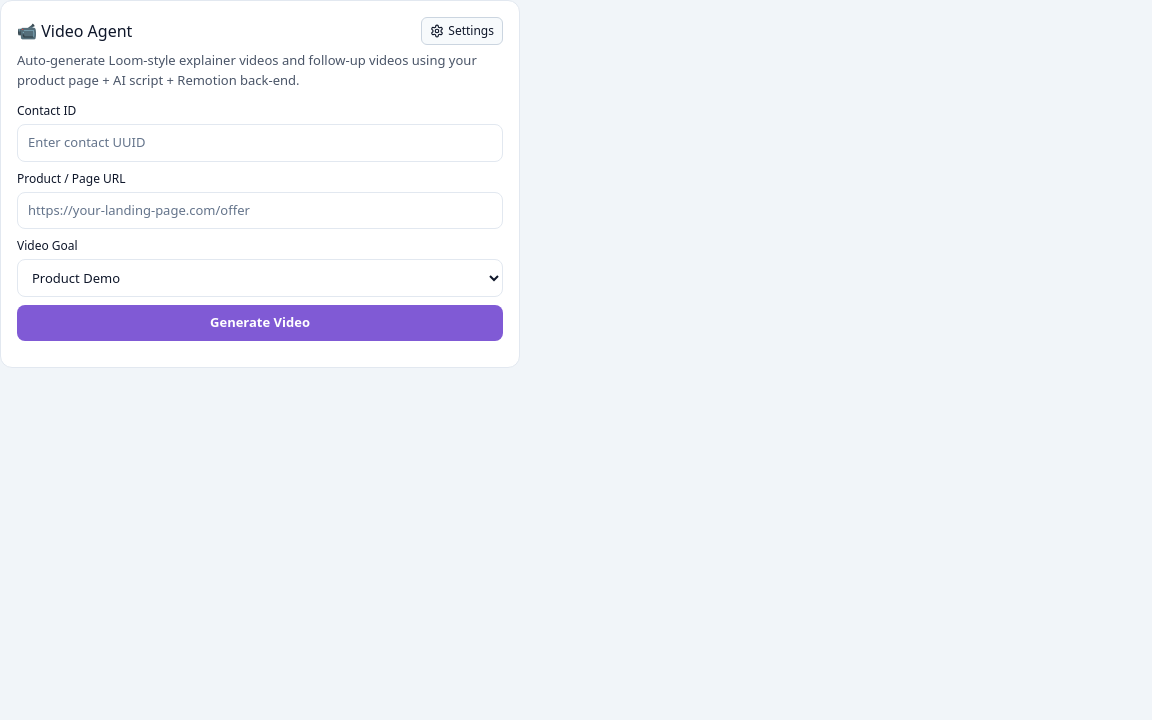
SDR Agent User Controls System › SDR Panel Settings Integration › VideoAgentPanel Settings › should open settings modal when clicked
Click the button titled "Configure Video Agent Settings". click: (462,31)
box: [421,17,503,45]
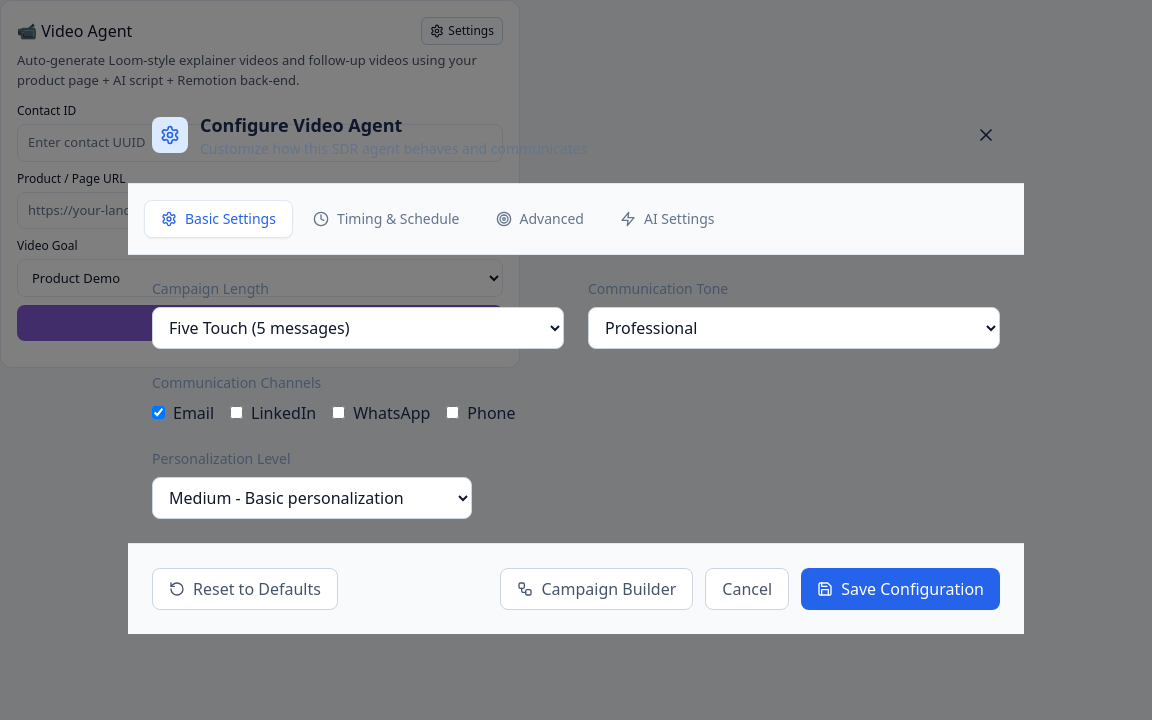
expect the heading "Configure Video Agent" is shown: met, box [200,112,402,136]
